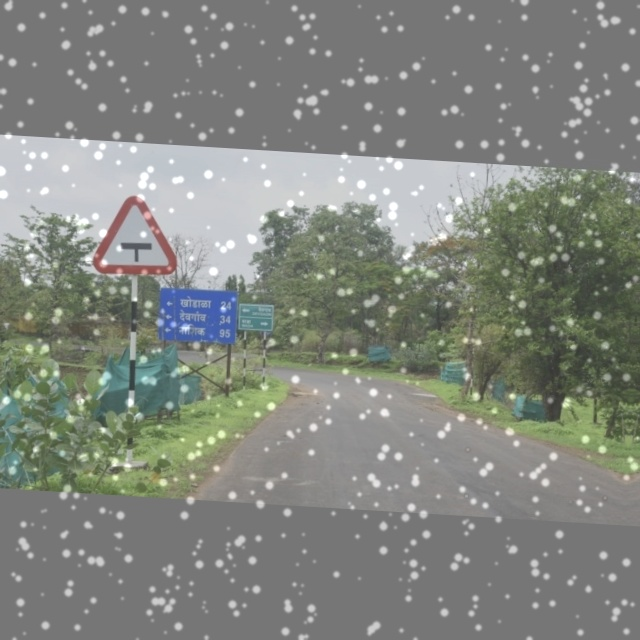T_Intersection: (85, 184, 190, 283)
